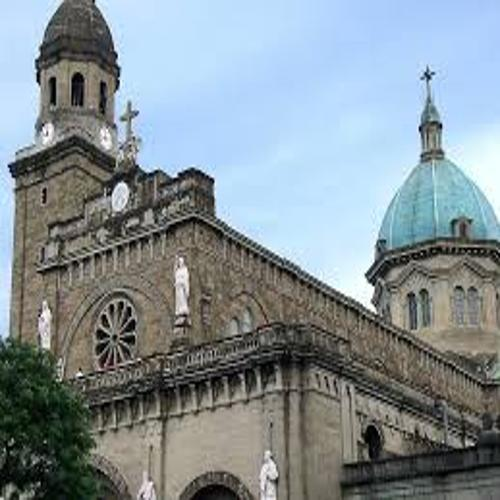Manila Cathedral Church: (6, 1, 500, 477)
